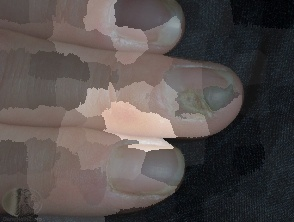Nail_psoriasis: (146, 47, 250, 145), (98, 169, 193, 210), (141, 0, 196, 55), (94, 6, 145, 63), (106, 137, 153, 158)
